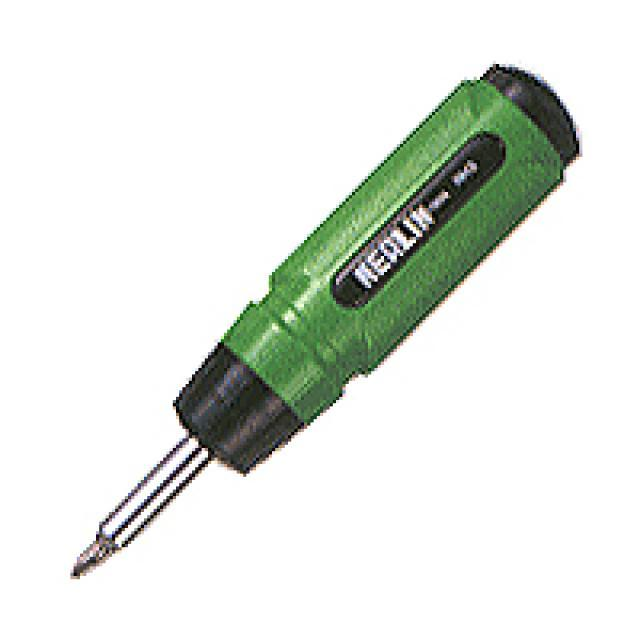screwdriver: (59, 52, 588, 588)
